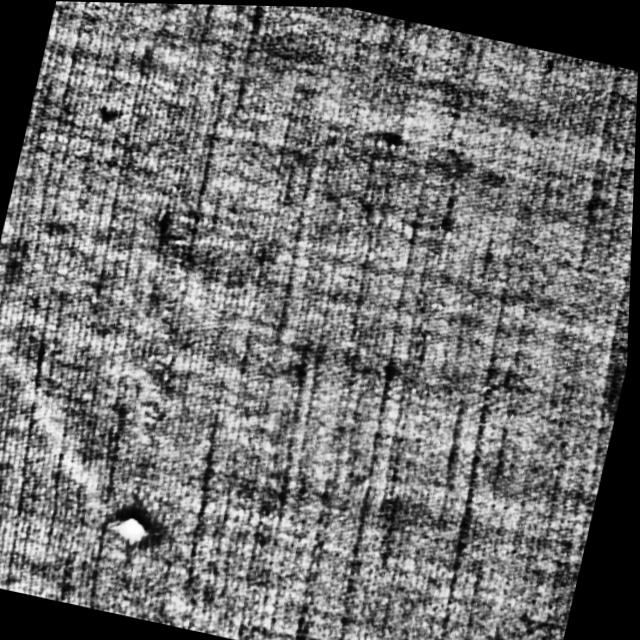Hole: (101, 500, 187, 556)
